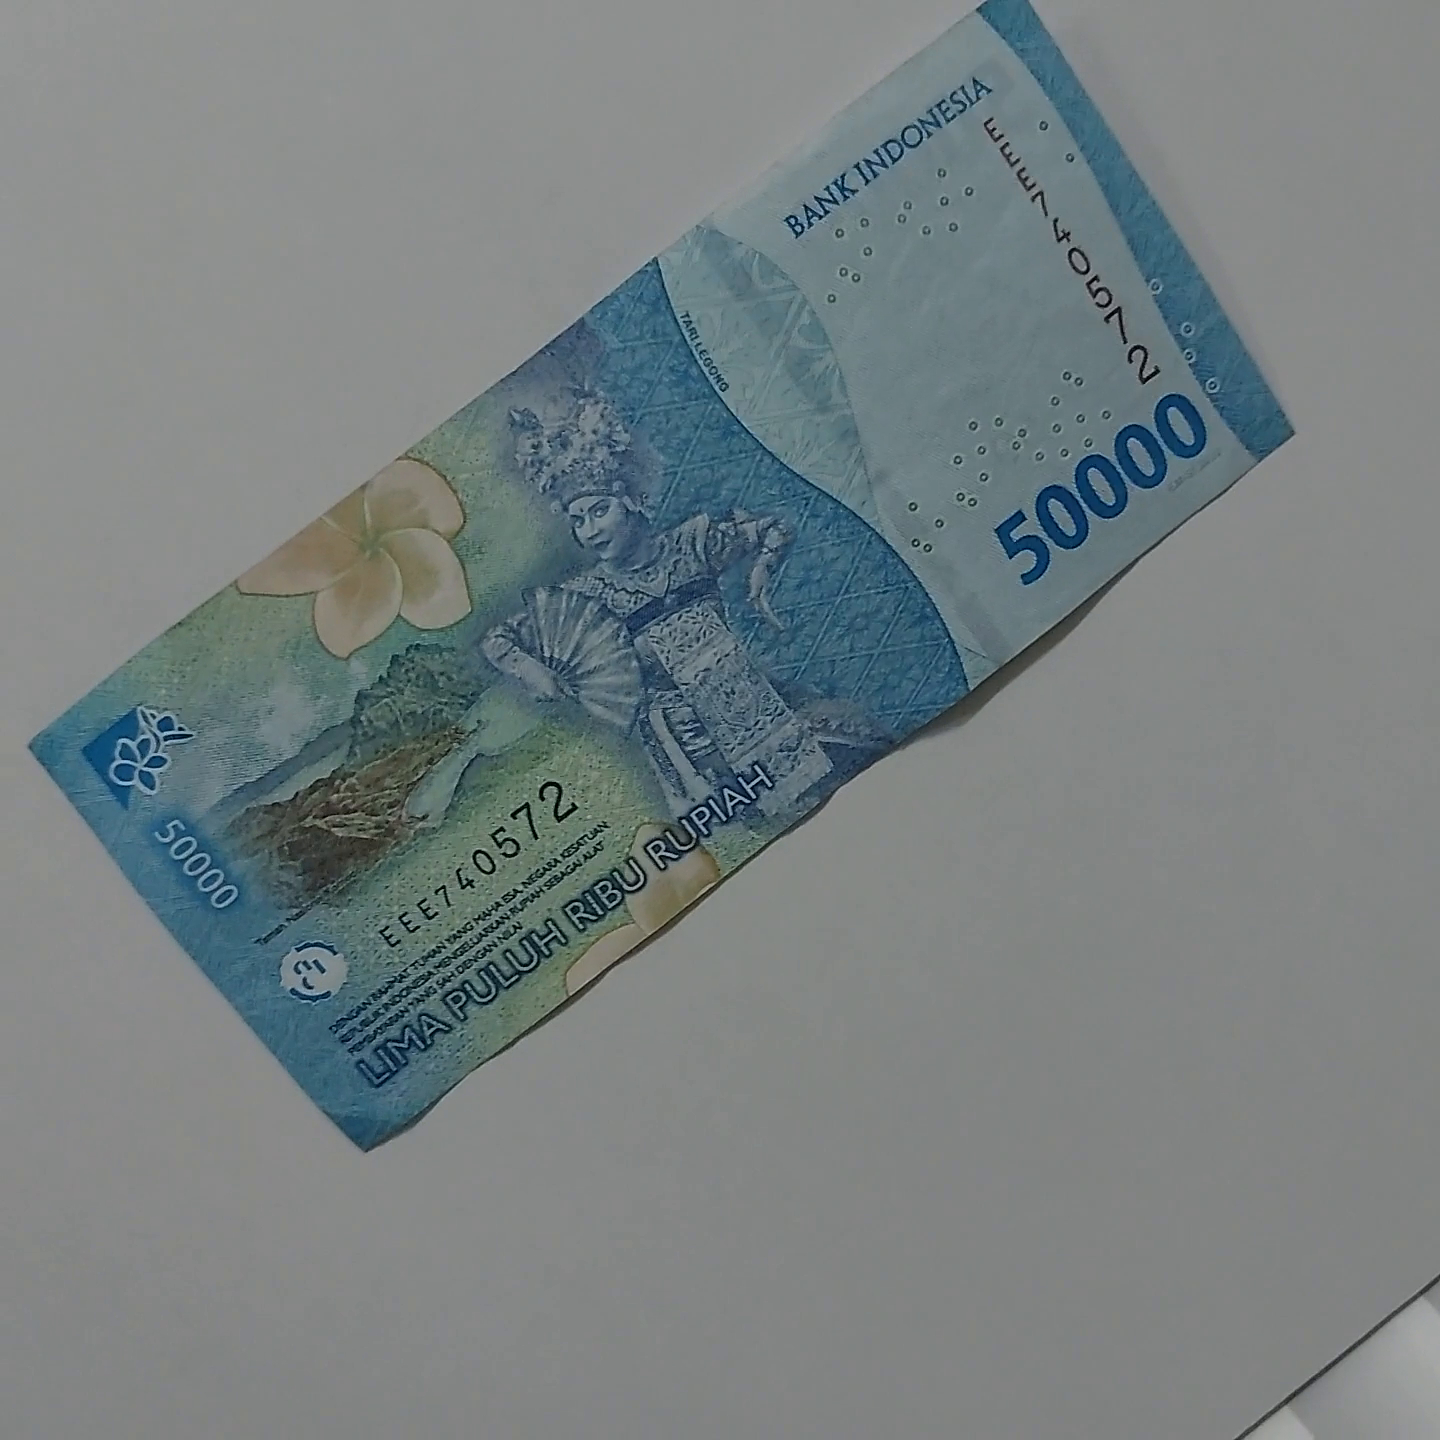50k: (0, 0, 1313, 1163)
